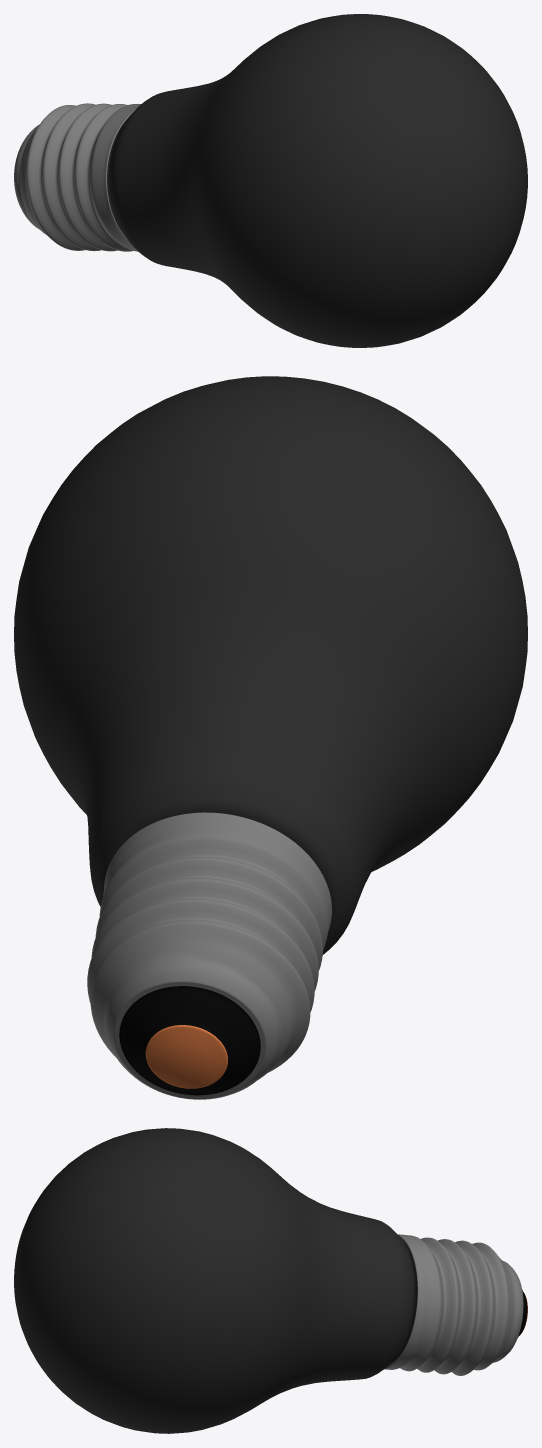
3 renders of one model, top to bottom at view 1: azimuth 30°, elevation 25°; view 2: azimuth 150°, elevation 25°; view 3: azimuth 270°, elevation 25°, orthographic. The views are drawn at different scales.
Visible parts, largest first — view 1: Bulb Glass_0; view 2: Bulb Glass_0; view 3: Bulb Glass_0.
Part boxes in pixels (x1,y1,x2,y2): Bulb Glass_0: (14, 14, 527, 347); Bulb Glass_0: (14, 376, 527, 1099); Bulb Glass_0: (14, 1128, 527, 1433).
Size of the model in its own units: 0.1023 by 0.0919 by 0.1542.
